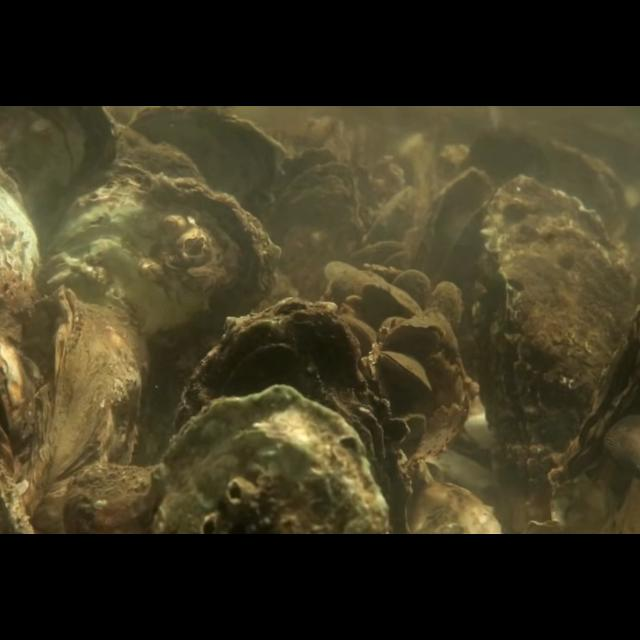Oyster-Closed: (48, 172, 282, 448), (180, 297, 410, 535), (150, 385, 388, 535), (30, 284, 148, 534), (127, 106, 289, 220), (0, 106, 120, 258), (0, 169, 42, 345), (62, 464, 154, 534), (402, 481, 502, 535), (362, 281, 422, 317), (384, 323, 446, 355), (391, 269, 431, 317), (324, 260, 372, 300), (430, 280, 462, 332)
Oyster-Open: (472, 174, 632, 471), (544, 299, 640, 526), (261, 146, 357, 288), (416, 166, 496, 320), (0, 340, 40, 478), (378, 351, 432, 393)
